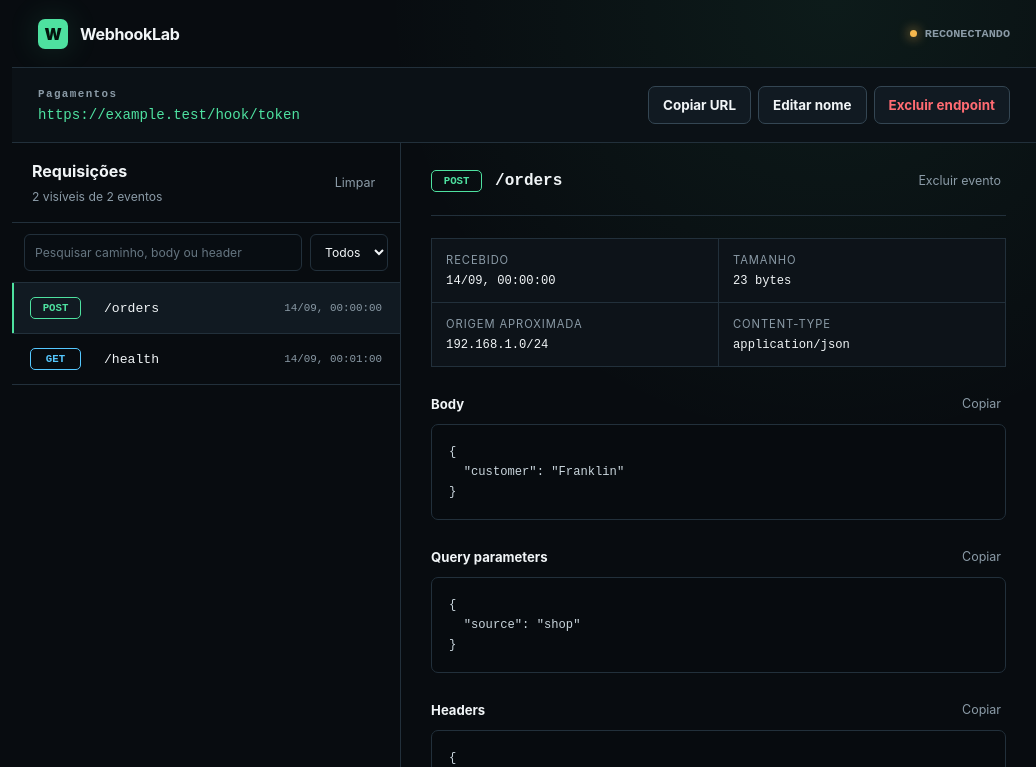
Test: InboxDashboard › edita e exibe o novo nome do endpoint
Expected: the text "Pagamentos" is shown, top-left (38, 88), bottom-right (117, 100)
Click the button "Editar nome" at x=812, y=105, box top-left (758, 86), bottom-right (867, 124)
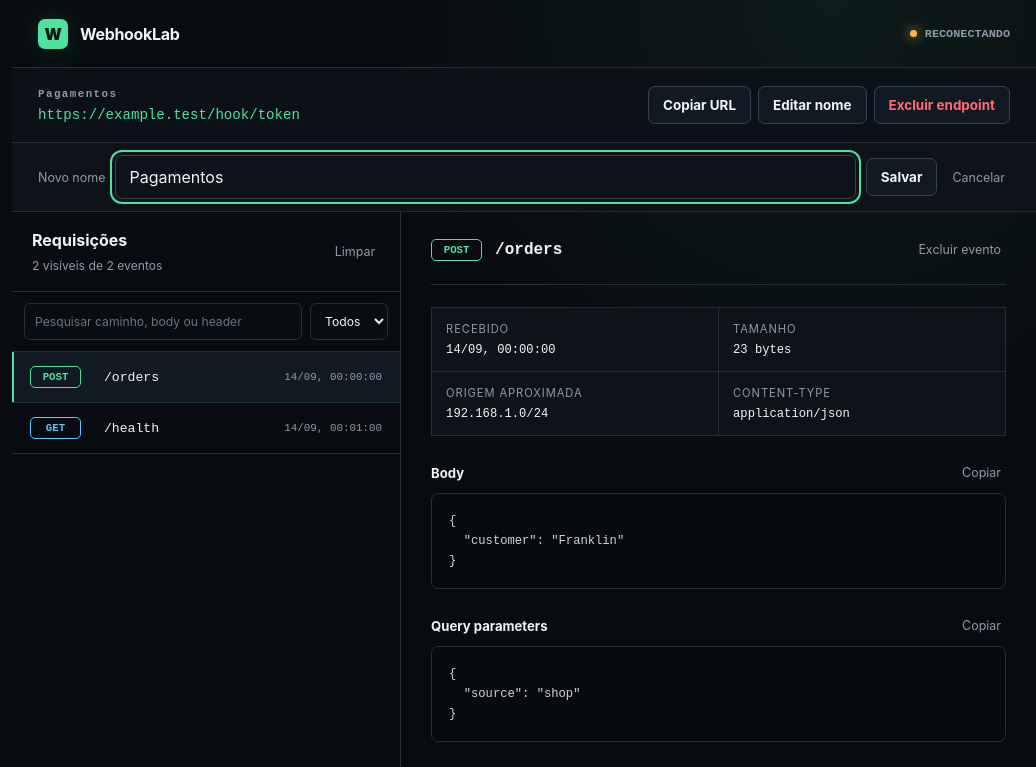
Replace the text in the field labelled "Novo nome" with "Pedidos" at x=486, y=177, box top-left (115, 155), bottom-right (856, 199)
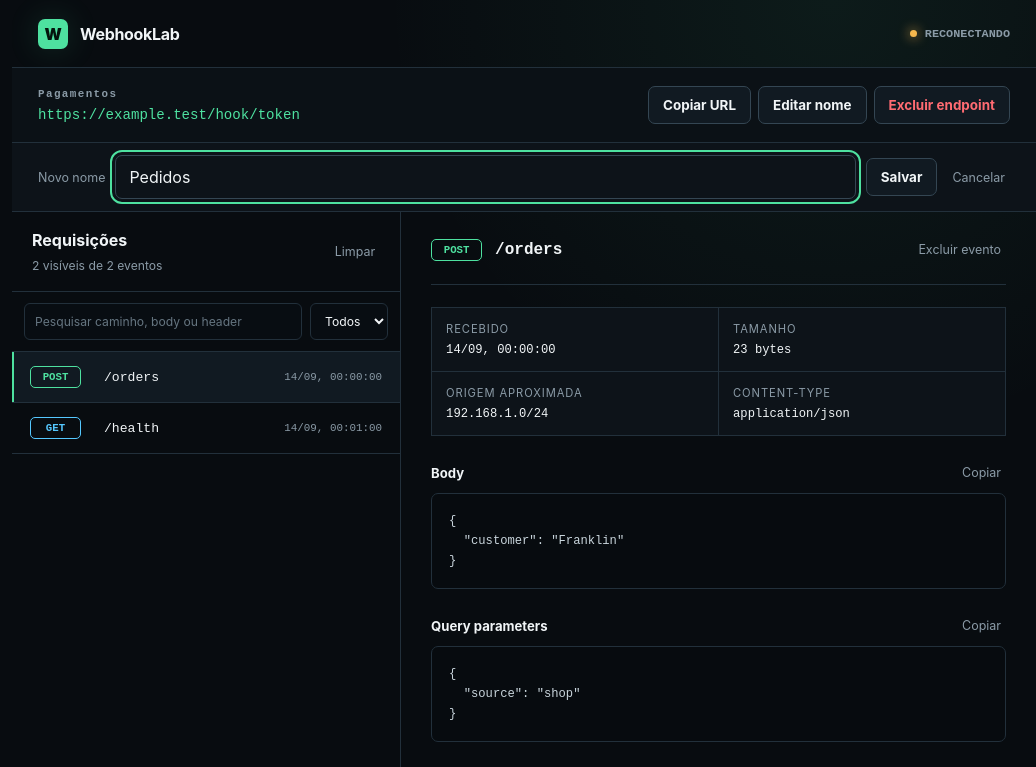
Click the button "Salvar" at x=902, y=177, box top-left (866, 158), bottom-right (937, 196)
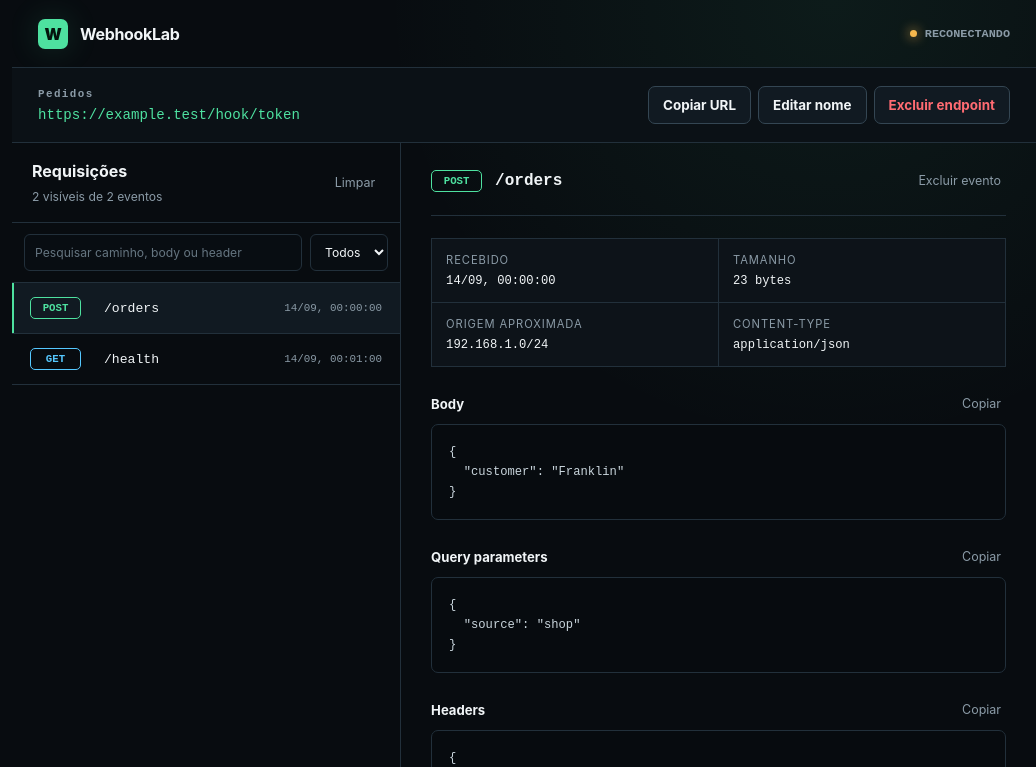
Expected: the text "Pedidos" is shown, top-left (38, 88), bottom-right (94, 100)
